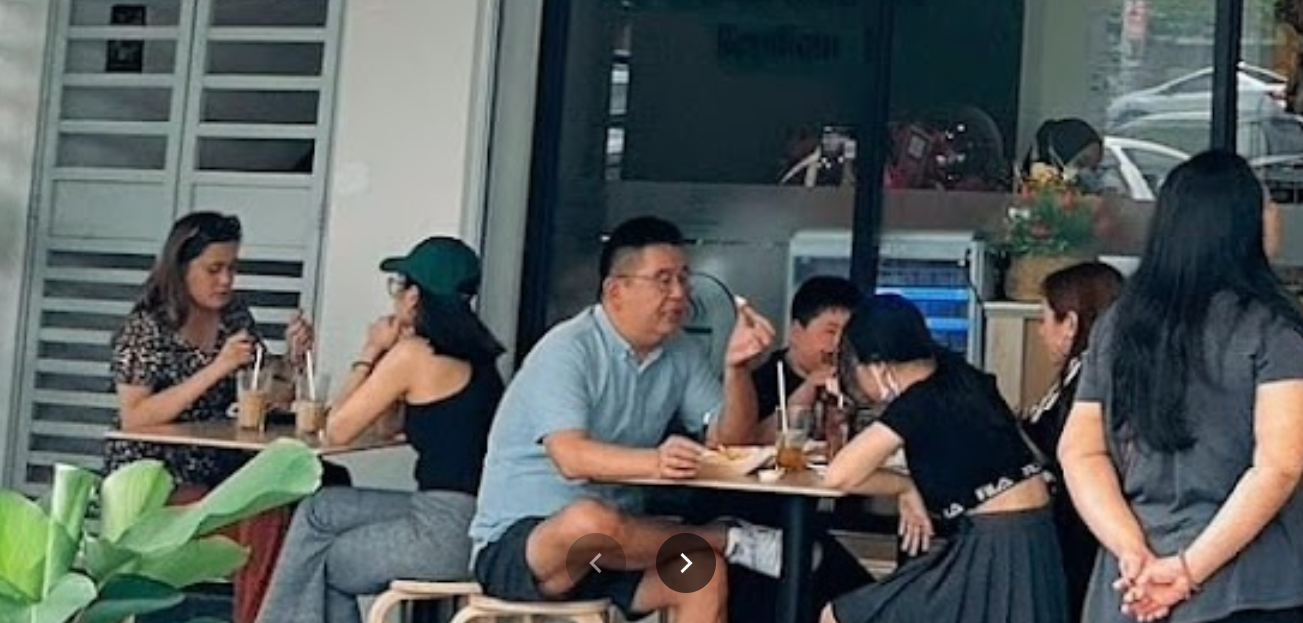sit: (550, 204, 737, 623), (328, 197, 489, 621), (814, 265, 987, 623), (115, 177, 264, 555)
stand: (1064, 109, 1271, 623)
